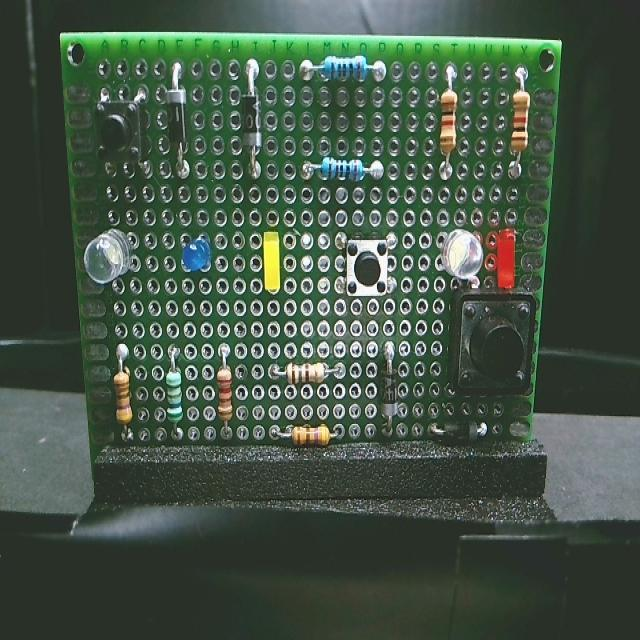diode: (232, 56, 268, 186), (164, 60, 197, 185), (373, 339, 404, 448), (422, 416, 492, 448)
led: (82, 227, 142, 288), (431, 229, 484, 284), (491, 226, 521, 292), (175, 232, 218, 278), (256, 228, 284, 298)
resistor: (296, 55, 388, 94), (506, 64, 534, 185), (109, 343, 140, 448), (298, 155, 389, 189), (158, 343, 188, 444), (211, 340, 238, 448), (262, 360, 350, 391), (436, 62, 458, 183), (266, 420, 342, 451)
switch: (445, 279, 536, 406), (95, 88, 156, 183), (331, 232, 398, 299)
